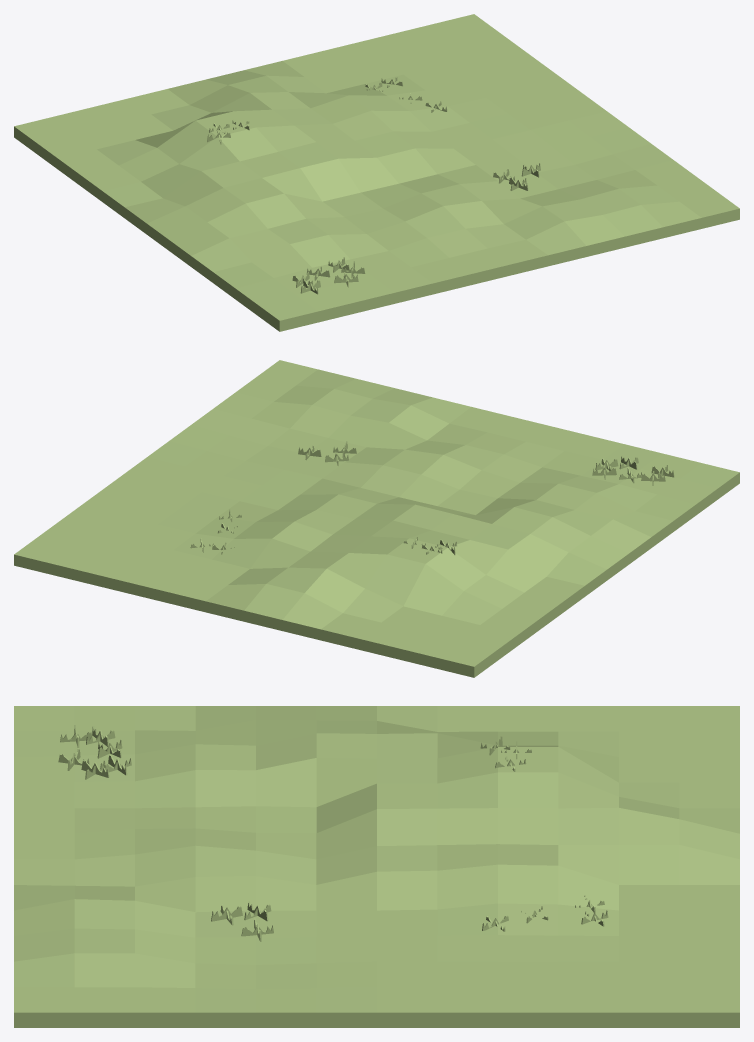
The model's file is Plains III.fbx.
The picture shows the model from 3 angles, top to bottom: view 1: azimuth 30°, elevation 25°; view 2: azimuth 150°, elevation 25°; view 3: azimuth 270°, elevation 25°; orthographic projection. The views are drawn at different scales.
Visible parts, largest first — view 1: Plains III; view 2: Plains III; view 3: Plains III.
Part boxes in pixels (x1,y1,x2,y2): Plains III: (14,14,739,331); Plains III: (14,360,739,677); Plains III: (14,706,739,1027).
Size of the model in its own units: 1603 by 140 by 1603.
